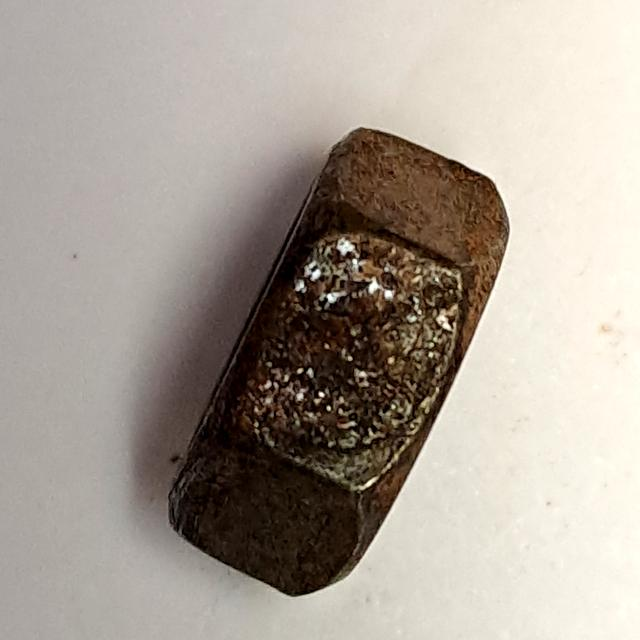Side_Rust: (152, 102, 518, 612)
